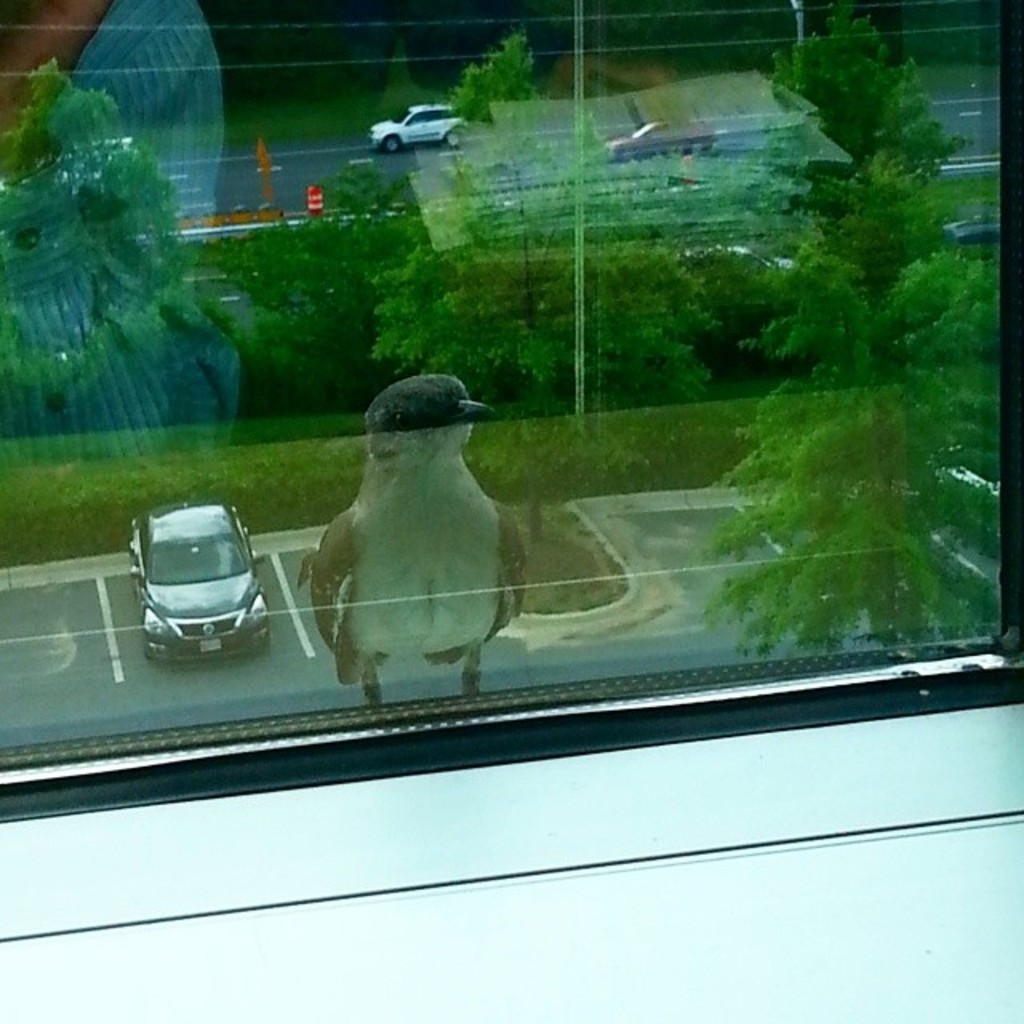Car: (120, 494, 272, 673), (364, 100, 470, 148)
